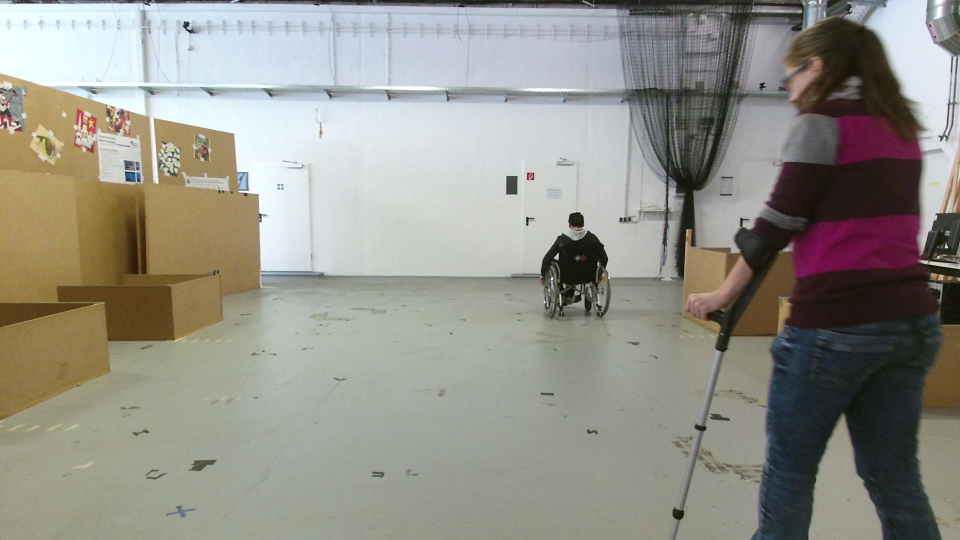crutches: (652, 6, 957, 538)
wheelchair: (535, 207, 619, 325)
